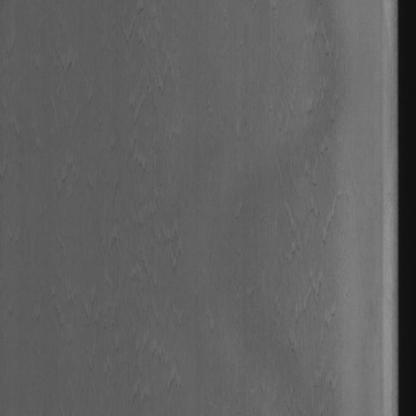silk_spot: (278, 20, 345, 366)
